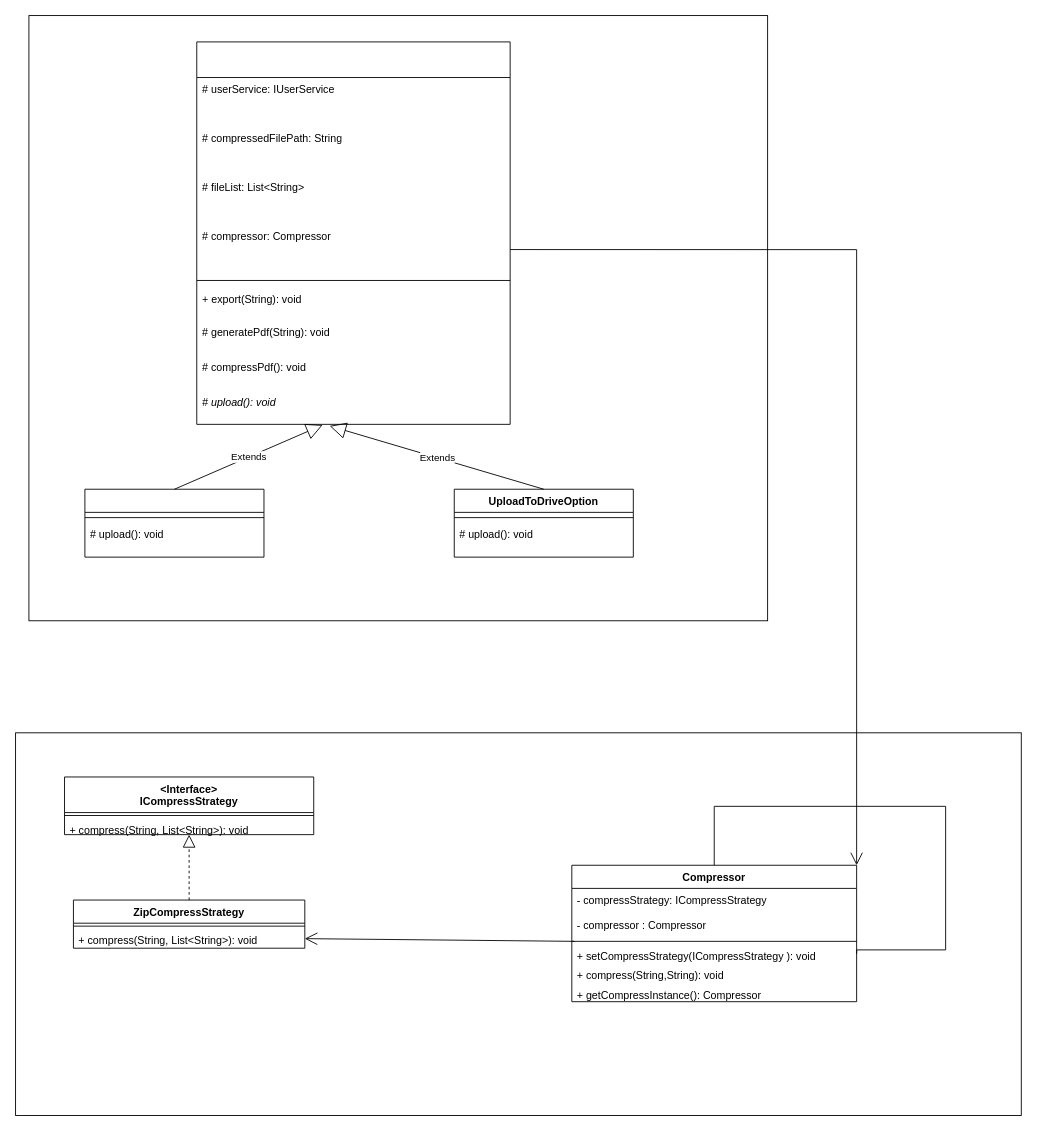
This 1041x1135 diagram has some shape labels left out. The box of each missing label's shape, as (x1, y1, x2, y2) in pixels:
<abstract> DataExportingTemplate: (196, 41, 510, 424)
DownloadDirectOption: (84, 488, 264, 557)
